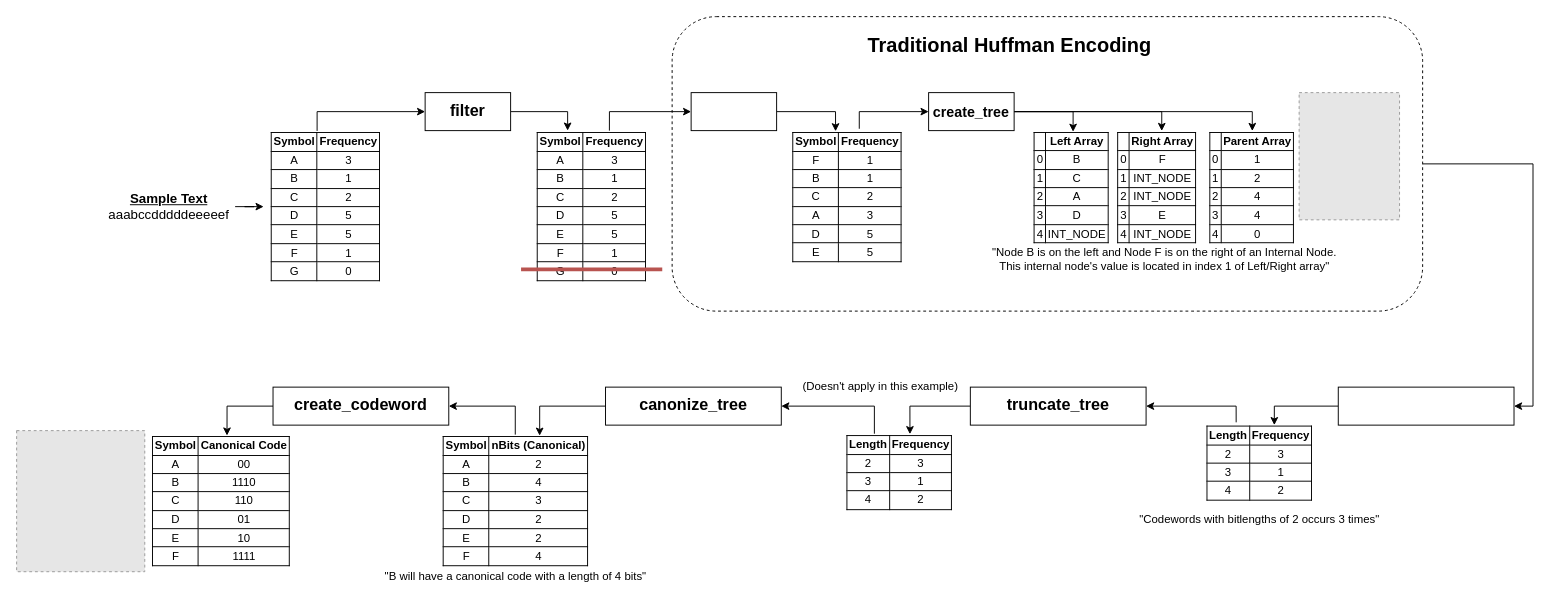
This 1558x603 diagram has some shape labels left out. Grey dashed boxes stand in for pictures. Here are the shapes that lost their labels. From the top down, the centre of each, then its label:
the point at 733,111: sort (by frequency)
the point at 1425,405: compute_bit_length
